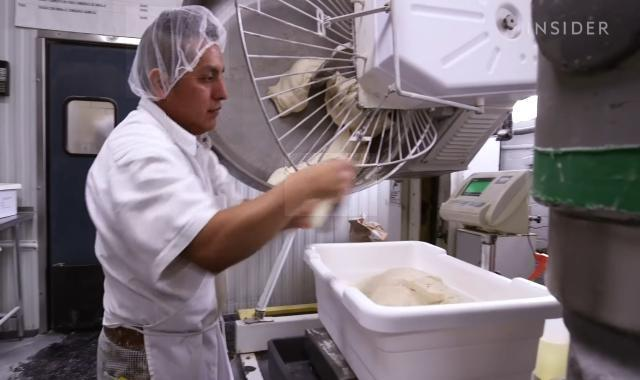gloves: (126, 7, 229, 99)
no_apron: (285, 154, 377, 217)
no_hairnet: (167, 78, 244, 145)
